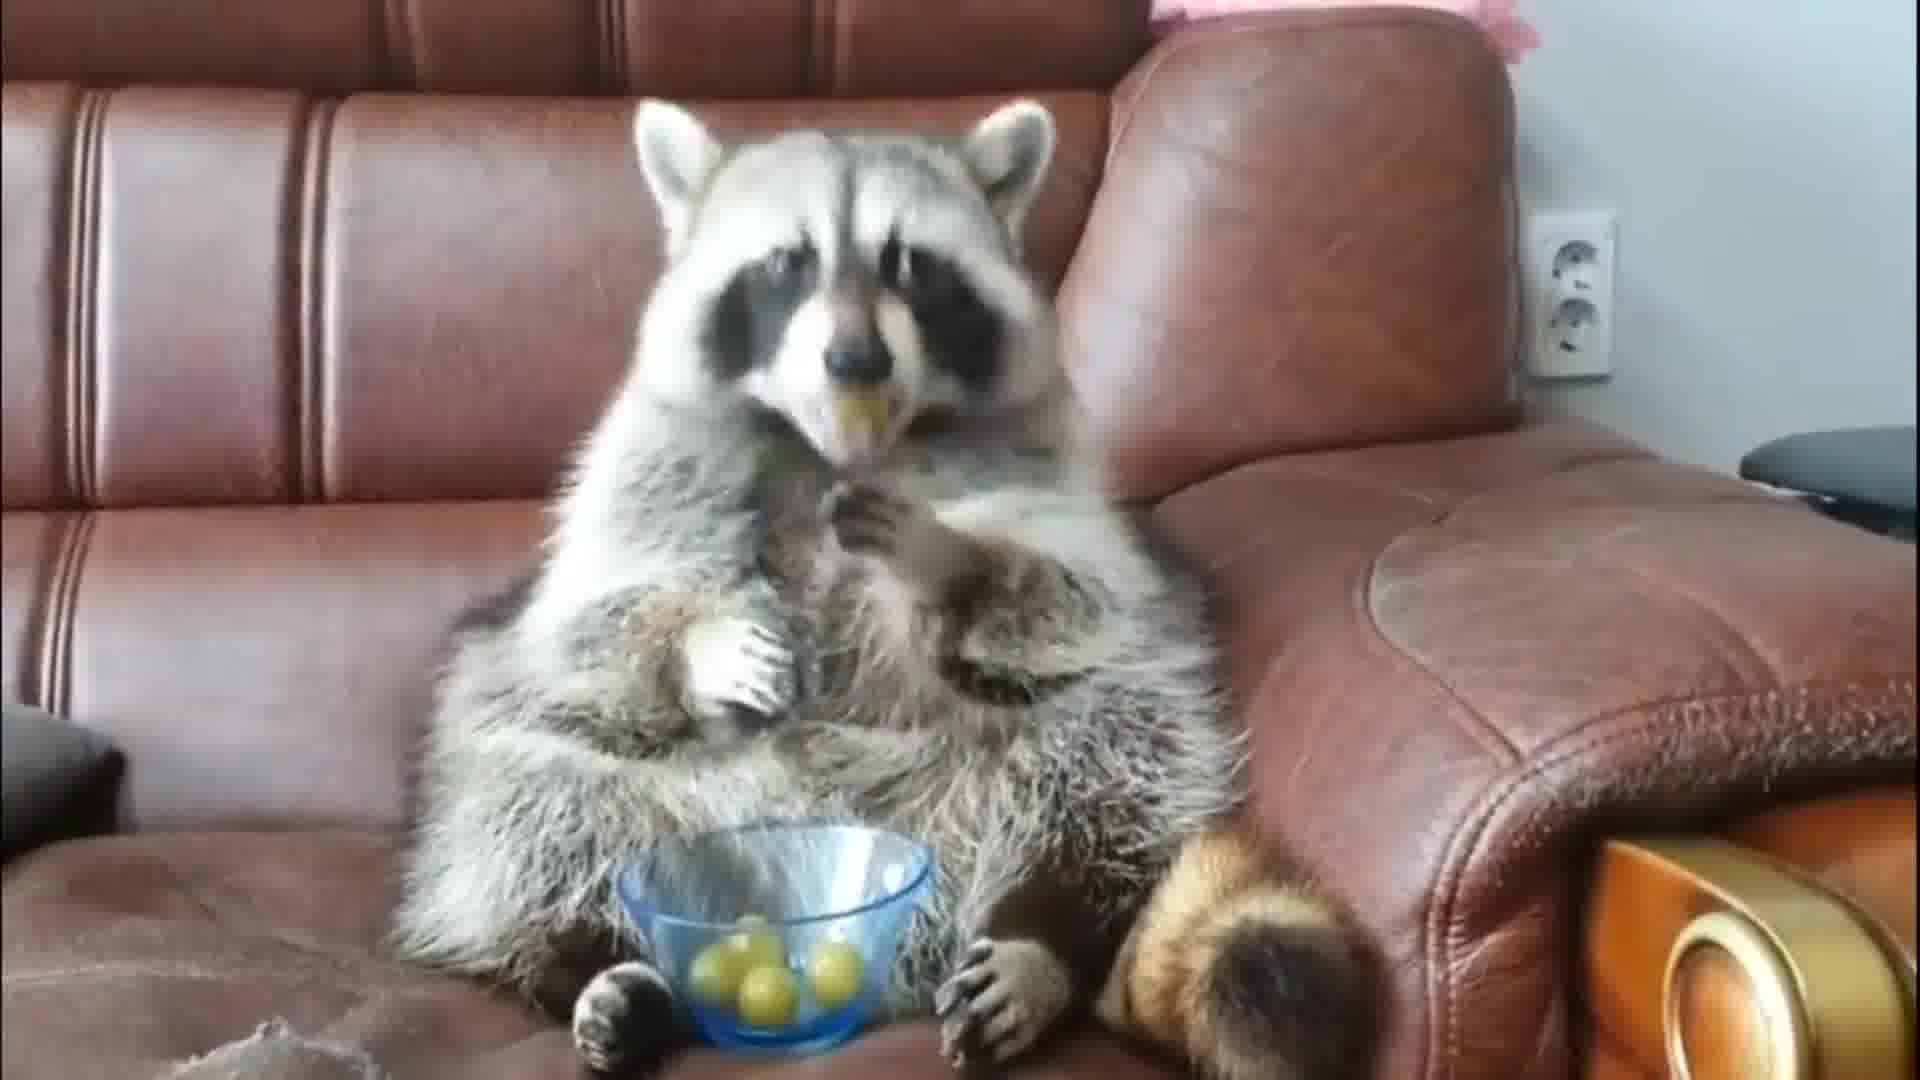raccoon: (386, 96, 1387, 1080)
